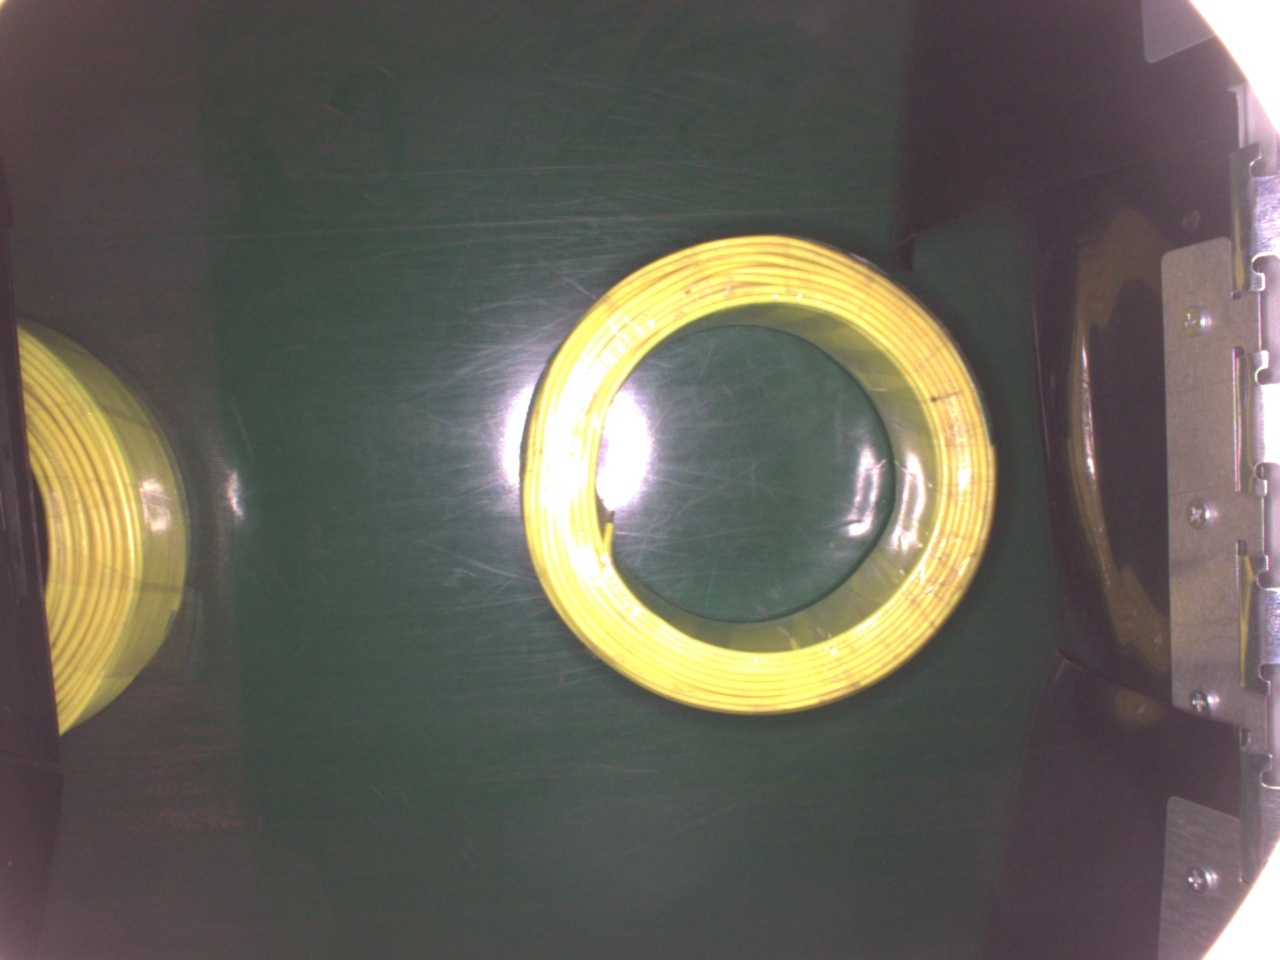yellow: (519, 228, 1003, 721), (6, 314, 195, 743)
